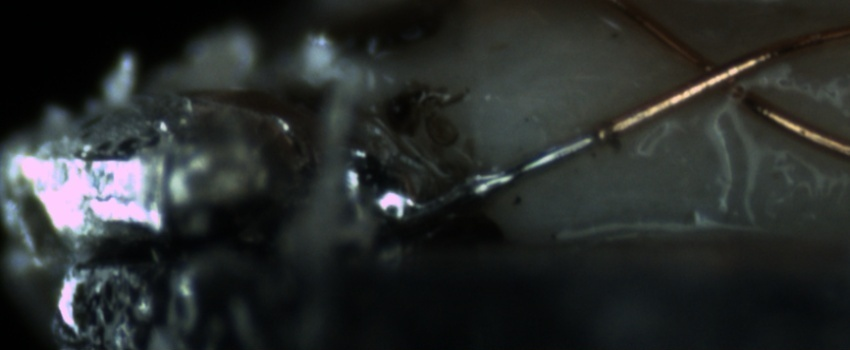CL: (661, 36, 793, 129)
TS: (401, 122, 594, 219)
TTCW: (376, 100, 640, 218)
